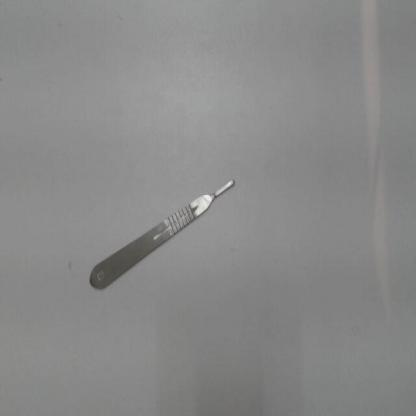No.3 BP Handle: (90, 177, 238, 296)
